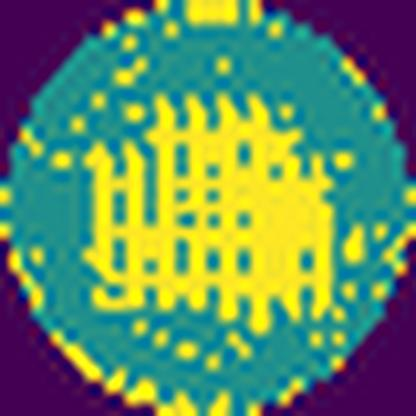Center: (87, 90, 338, 332)
